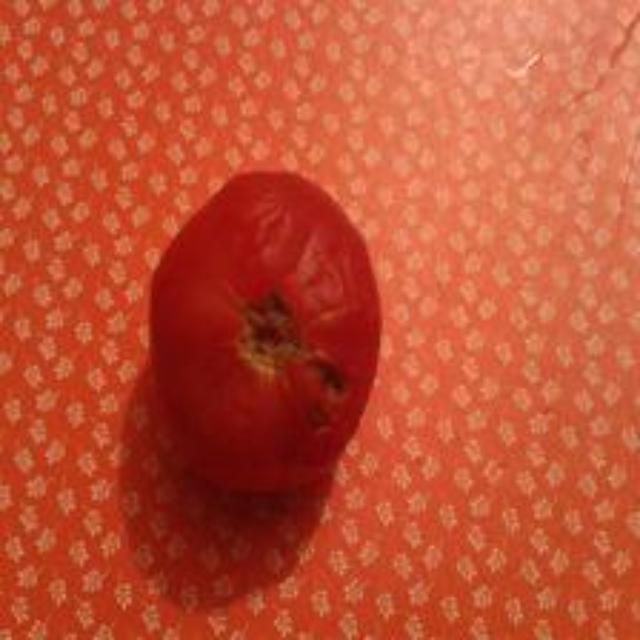defect: (134, 160, 389, 512)
